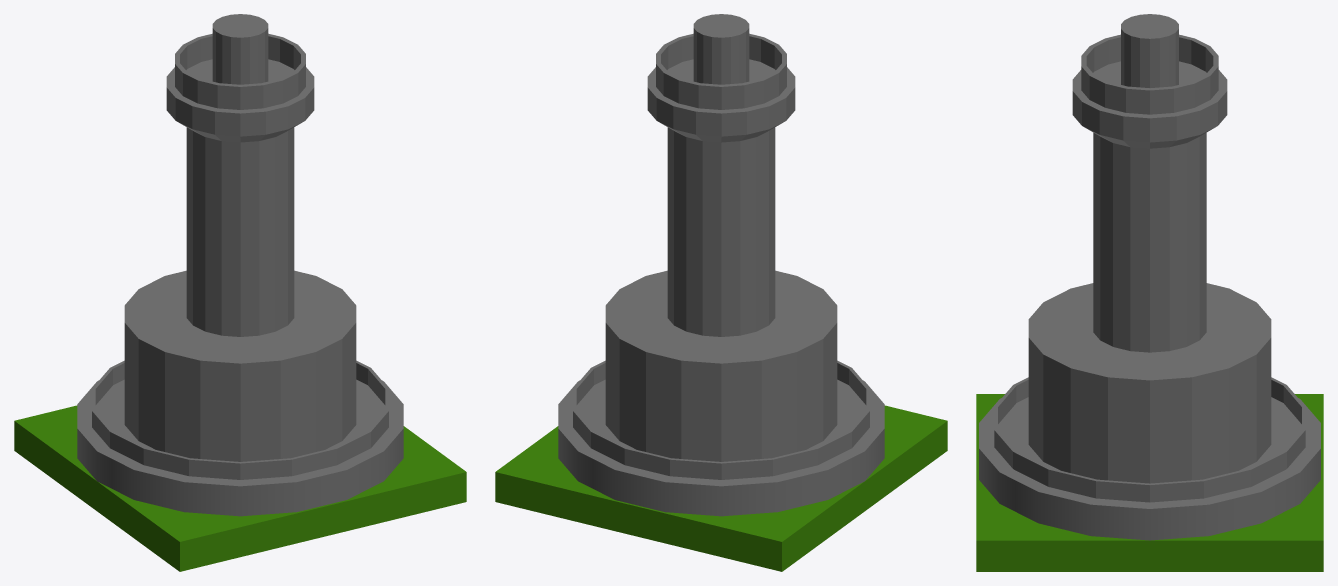
Rendered from Monument.obj.
3 views of the same model, side by side, from view 1: azimuth 30°, elevation 25°; view 2: azimuth 150°, elevation 25°; view 3: azimuth 270°, elevation 25° (orthographic). The views are drawn at different scales.
Parts seen in each view (by area): view 1: Cylinder003, Tilebase100; view 2: Cylinder003, Tilebase100; view 3: Cylinder003, Tilebase100.
Boxes of the visible parts, x1,y1,x2,y2 form: Cylinder003: (77,14,403,516); Tilebase100: (14,405,466,571); Cylinder003: (558,14,884,516); Tilebase100: (495,405,947,571); Cylinder003: (979,14,1320,540); Tilebase100: (976,394,1323,571).
Size of the model in its own units: 10 by 15.01 by 10.
